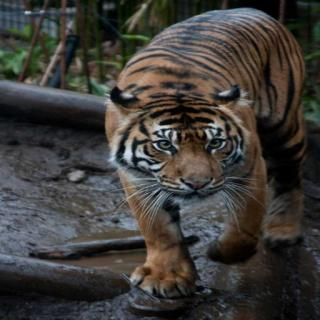Tiger: (87, 0, 320, 290)
